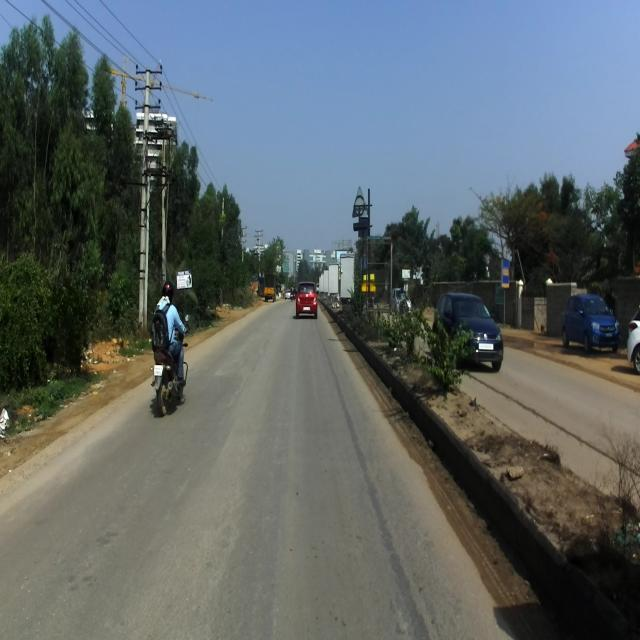Car_Maruti-Suzuki: (561, 293, 621, 354), (294, 280, 318, 318)
Car_Volkswagen: (432, 292, 504, 371)
motorcycle_Honda: (150, 314, 190, 416)
